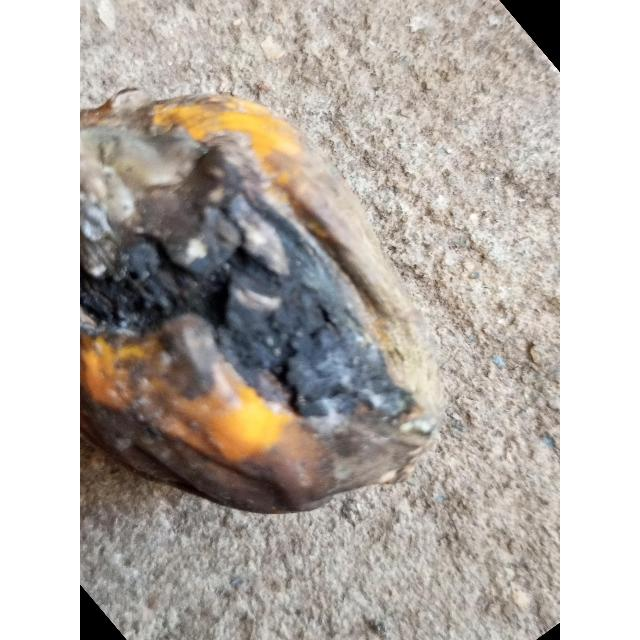damaged: (80, 90, 445, 517)
